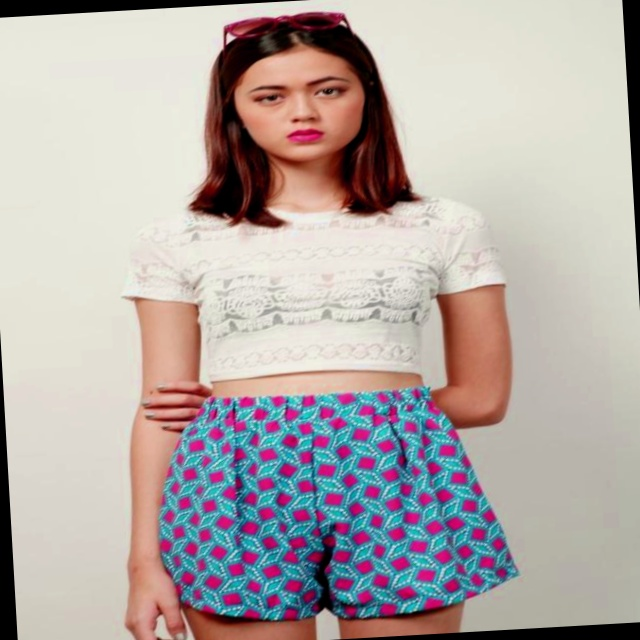Crop_Top: (185, 205, 446, 403)
Shorts: (148, 381, 525, 640)
